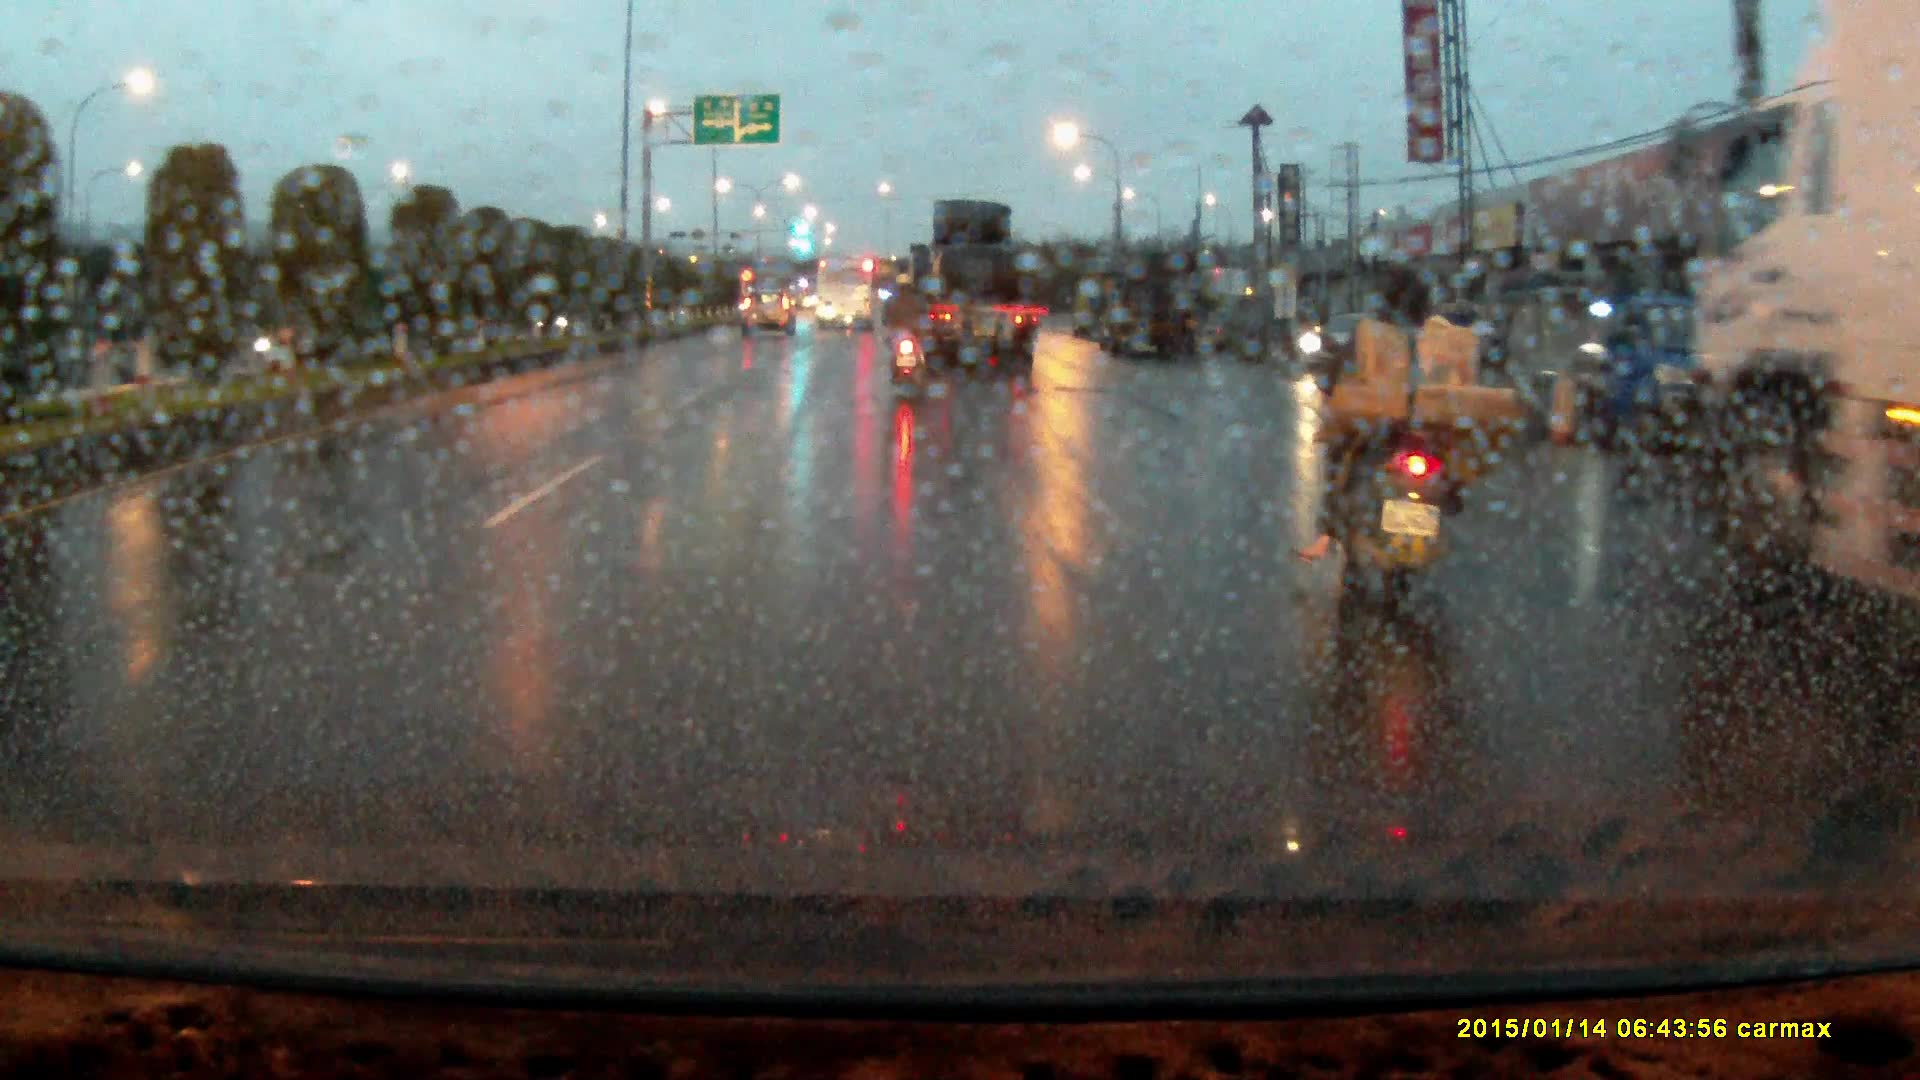rider: (1305, 251, 1530, 643), (884, 267, 935, 384)
vehicle: (1678, 20, 1920, 611), (1516, 287, 1703, 448), (894, 197, 1038, 375), (1108, 253, 1207, 364), (815, 256, 877, 334), (1071, 279, 1118, 338), (741, 292, 797, 340)
